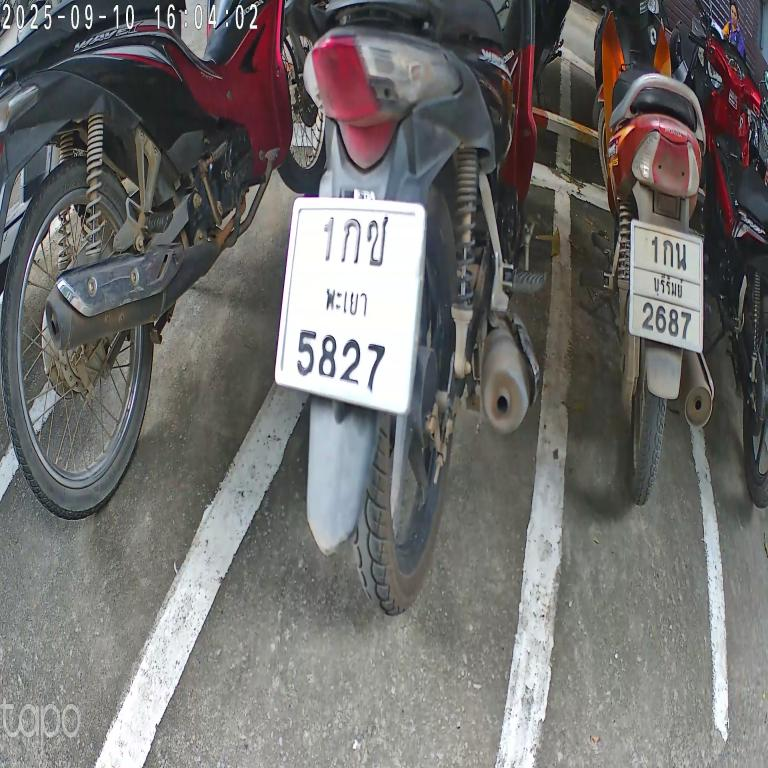license plate: (271, 172, 436, 436), (619, 206, 713, 366)
